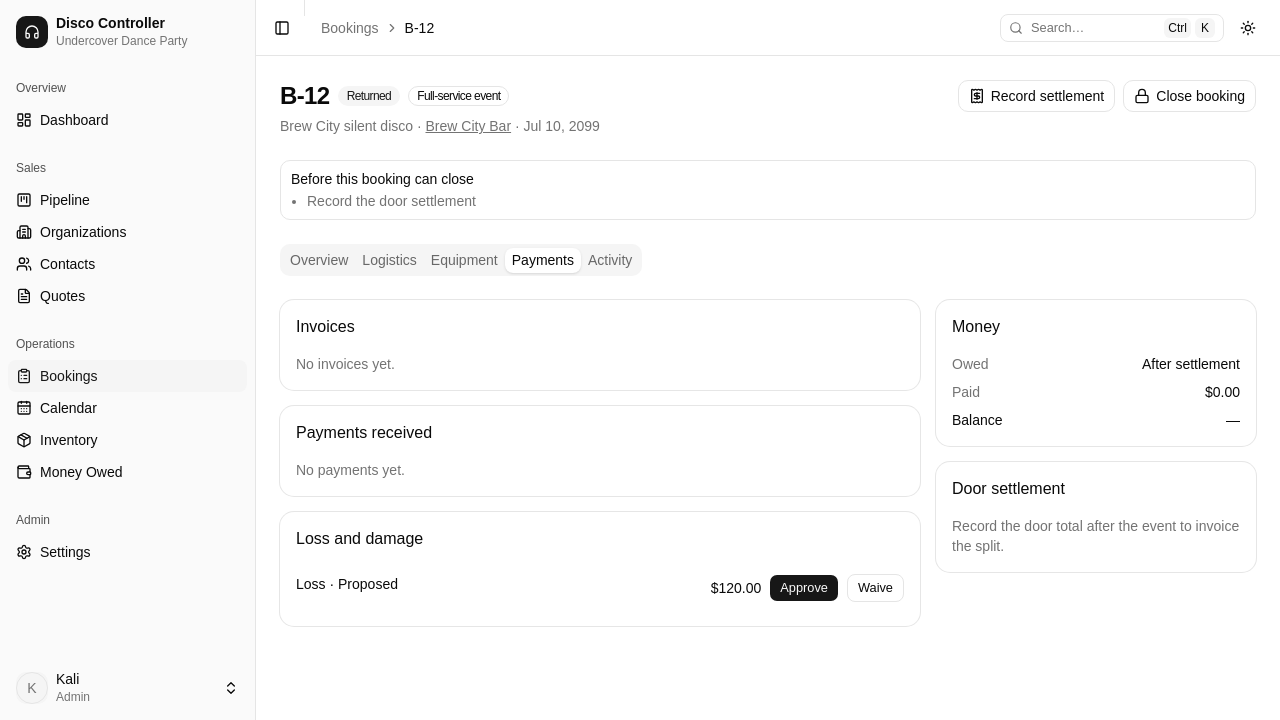
Test: booking pages › requires a reason to waive a loss charge
Click the button "Waive". click: x=875, y=588
box: [847,574,904,602]
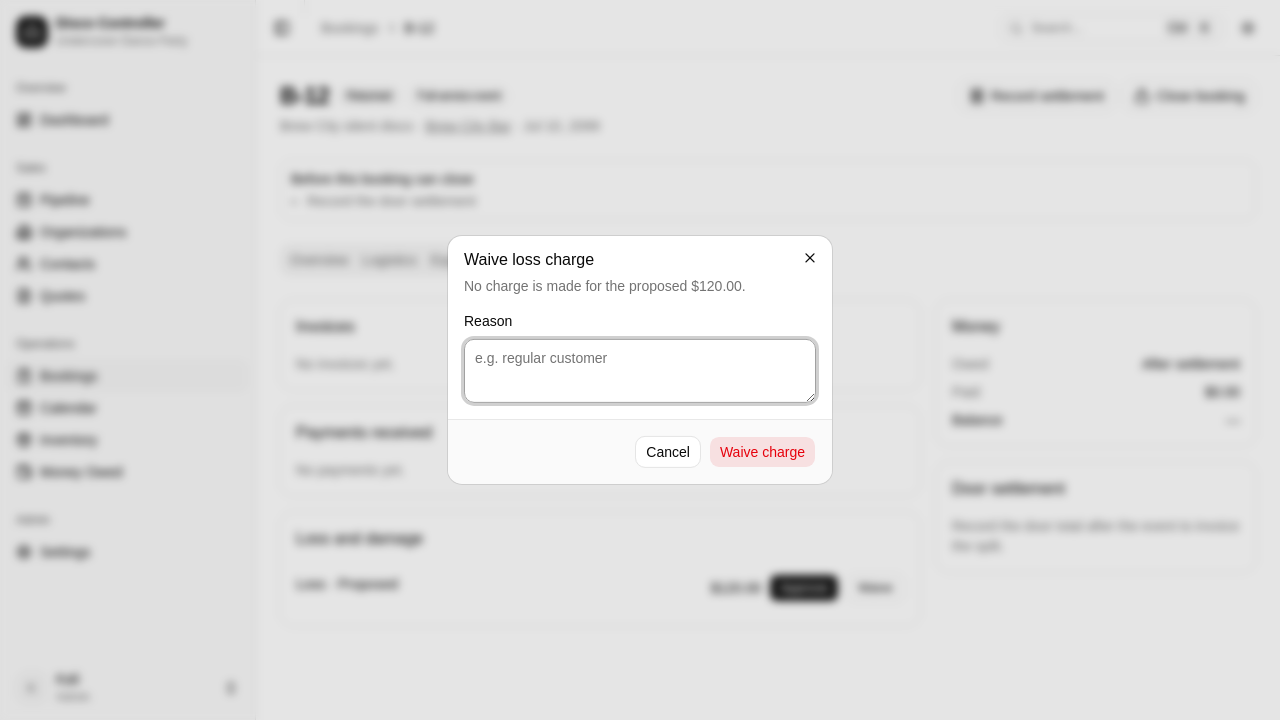
Click the button "Waive charge". click: x=762, y=452
box: [709,436,816,468]
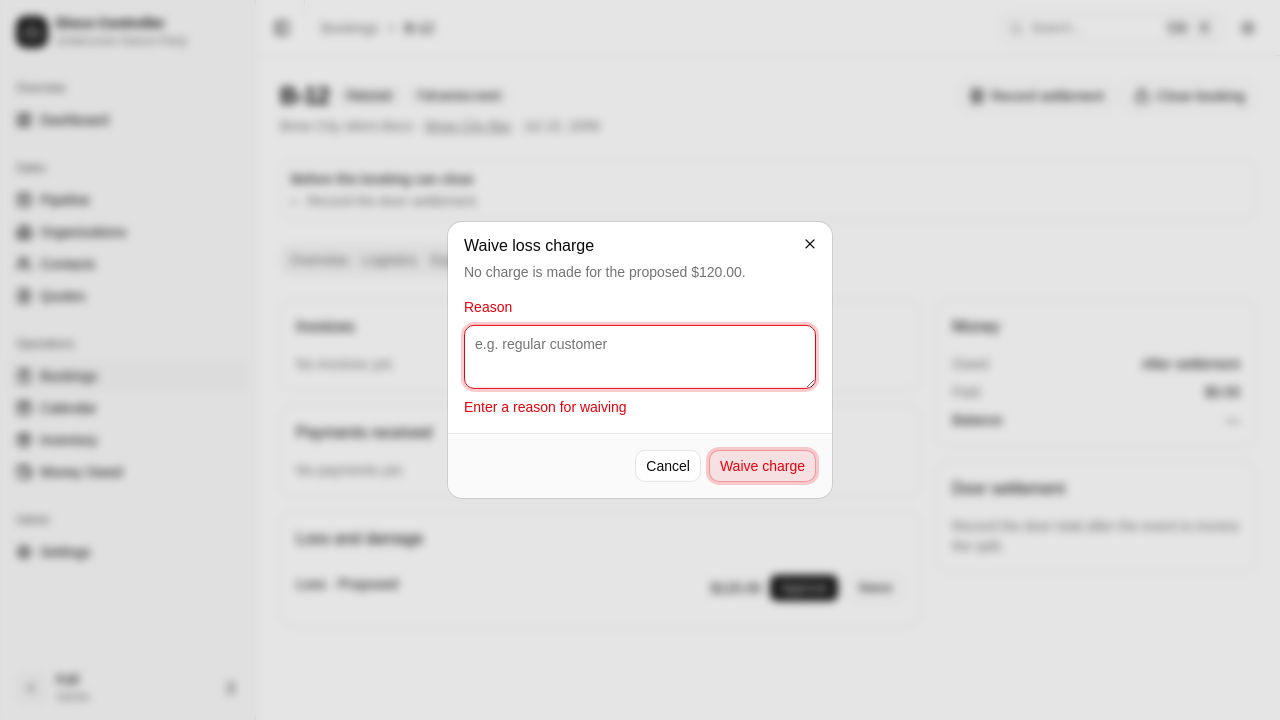
Expected: the text "Enter a reason for waiving" is shown, [464,399,627,415]
